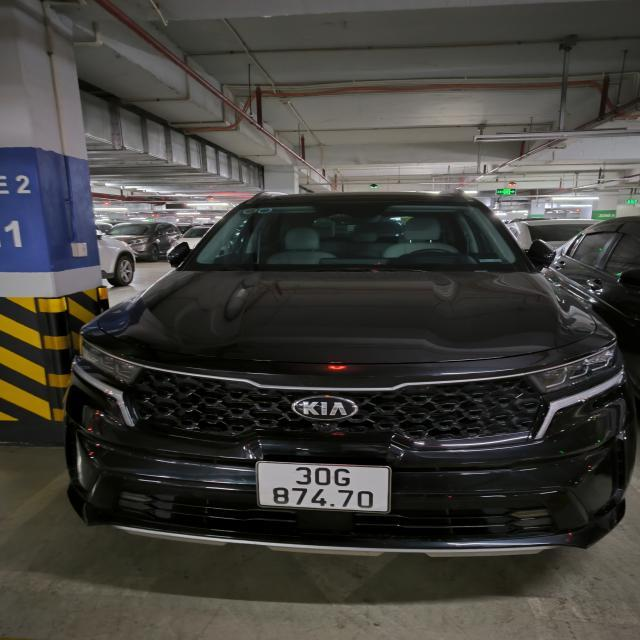license: (255, 460, 391, 514)
